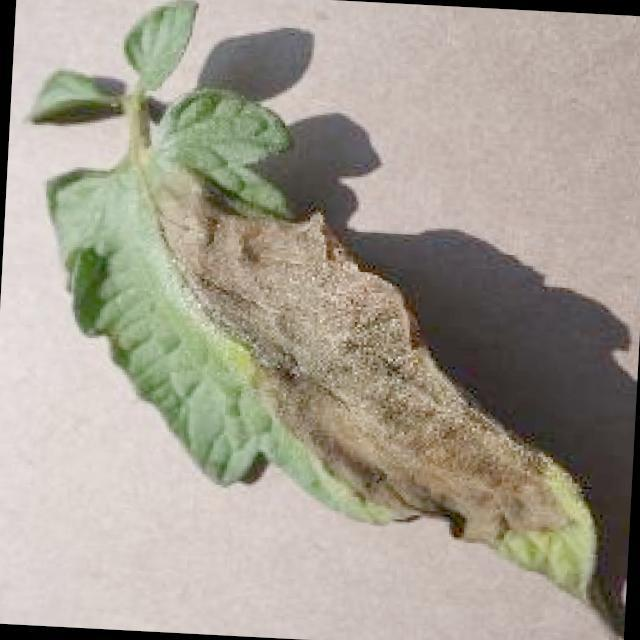Tomato healthy leaf: (116, 0, 198, 99)
Tomato late blight leaf: (23, 73, 622, 610)
